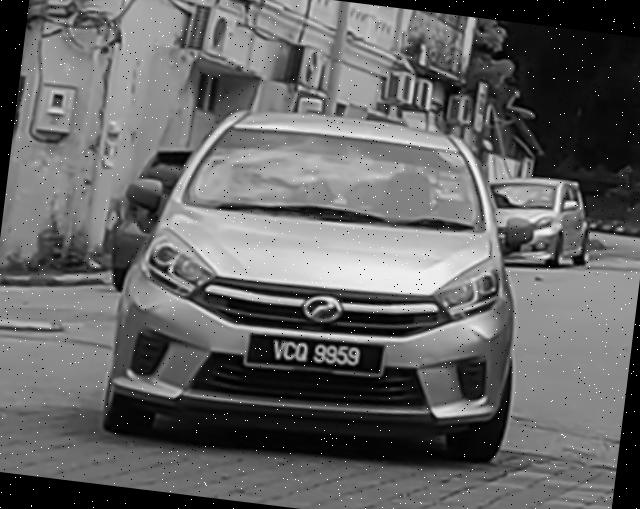License_Plate: (242, 324, 389, 382)
car: (92, 88, 546, 480)
